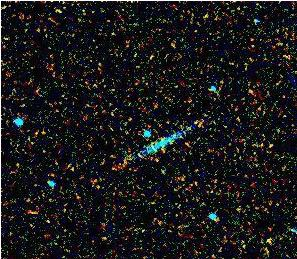star: (143, 143, 173, 173)
